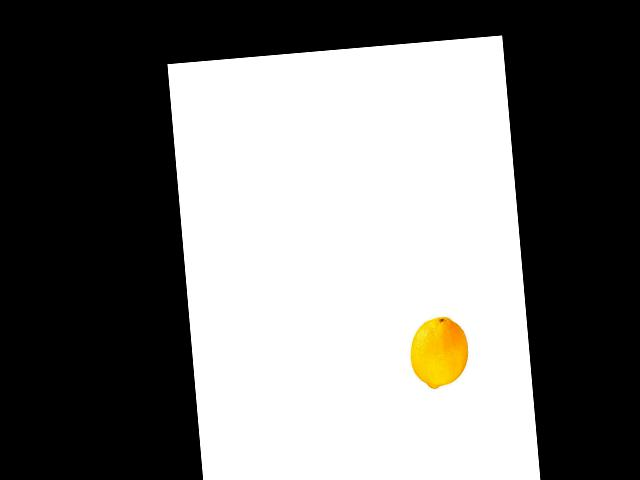lemon: (405, 314, 472, 392)
